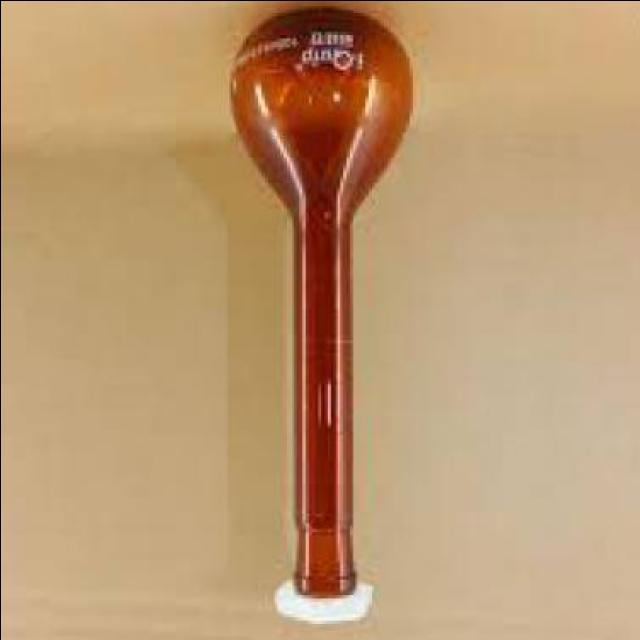kaca: (232, 12, 414, 601)
